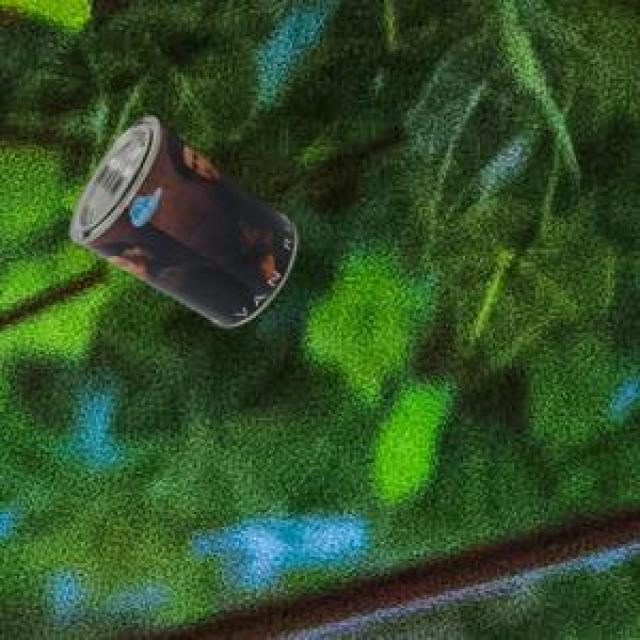logam: (67, 114, 293, 323)
